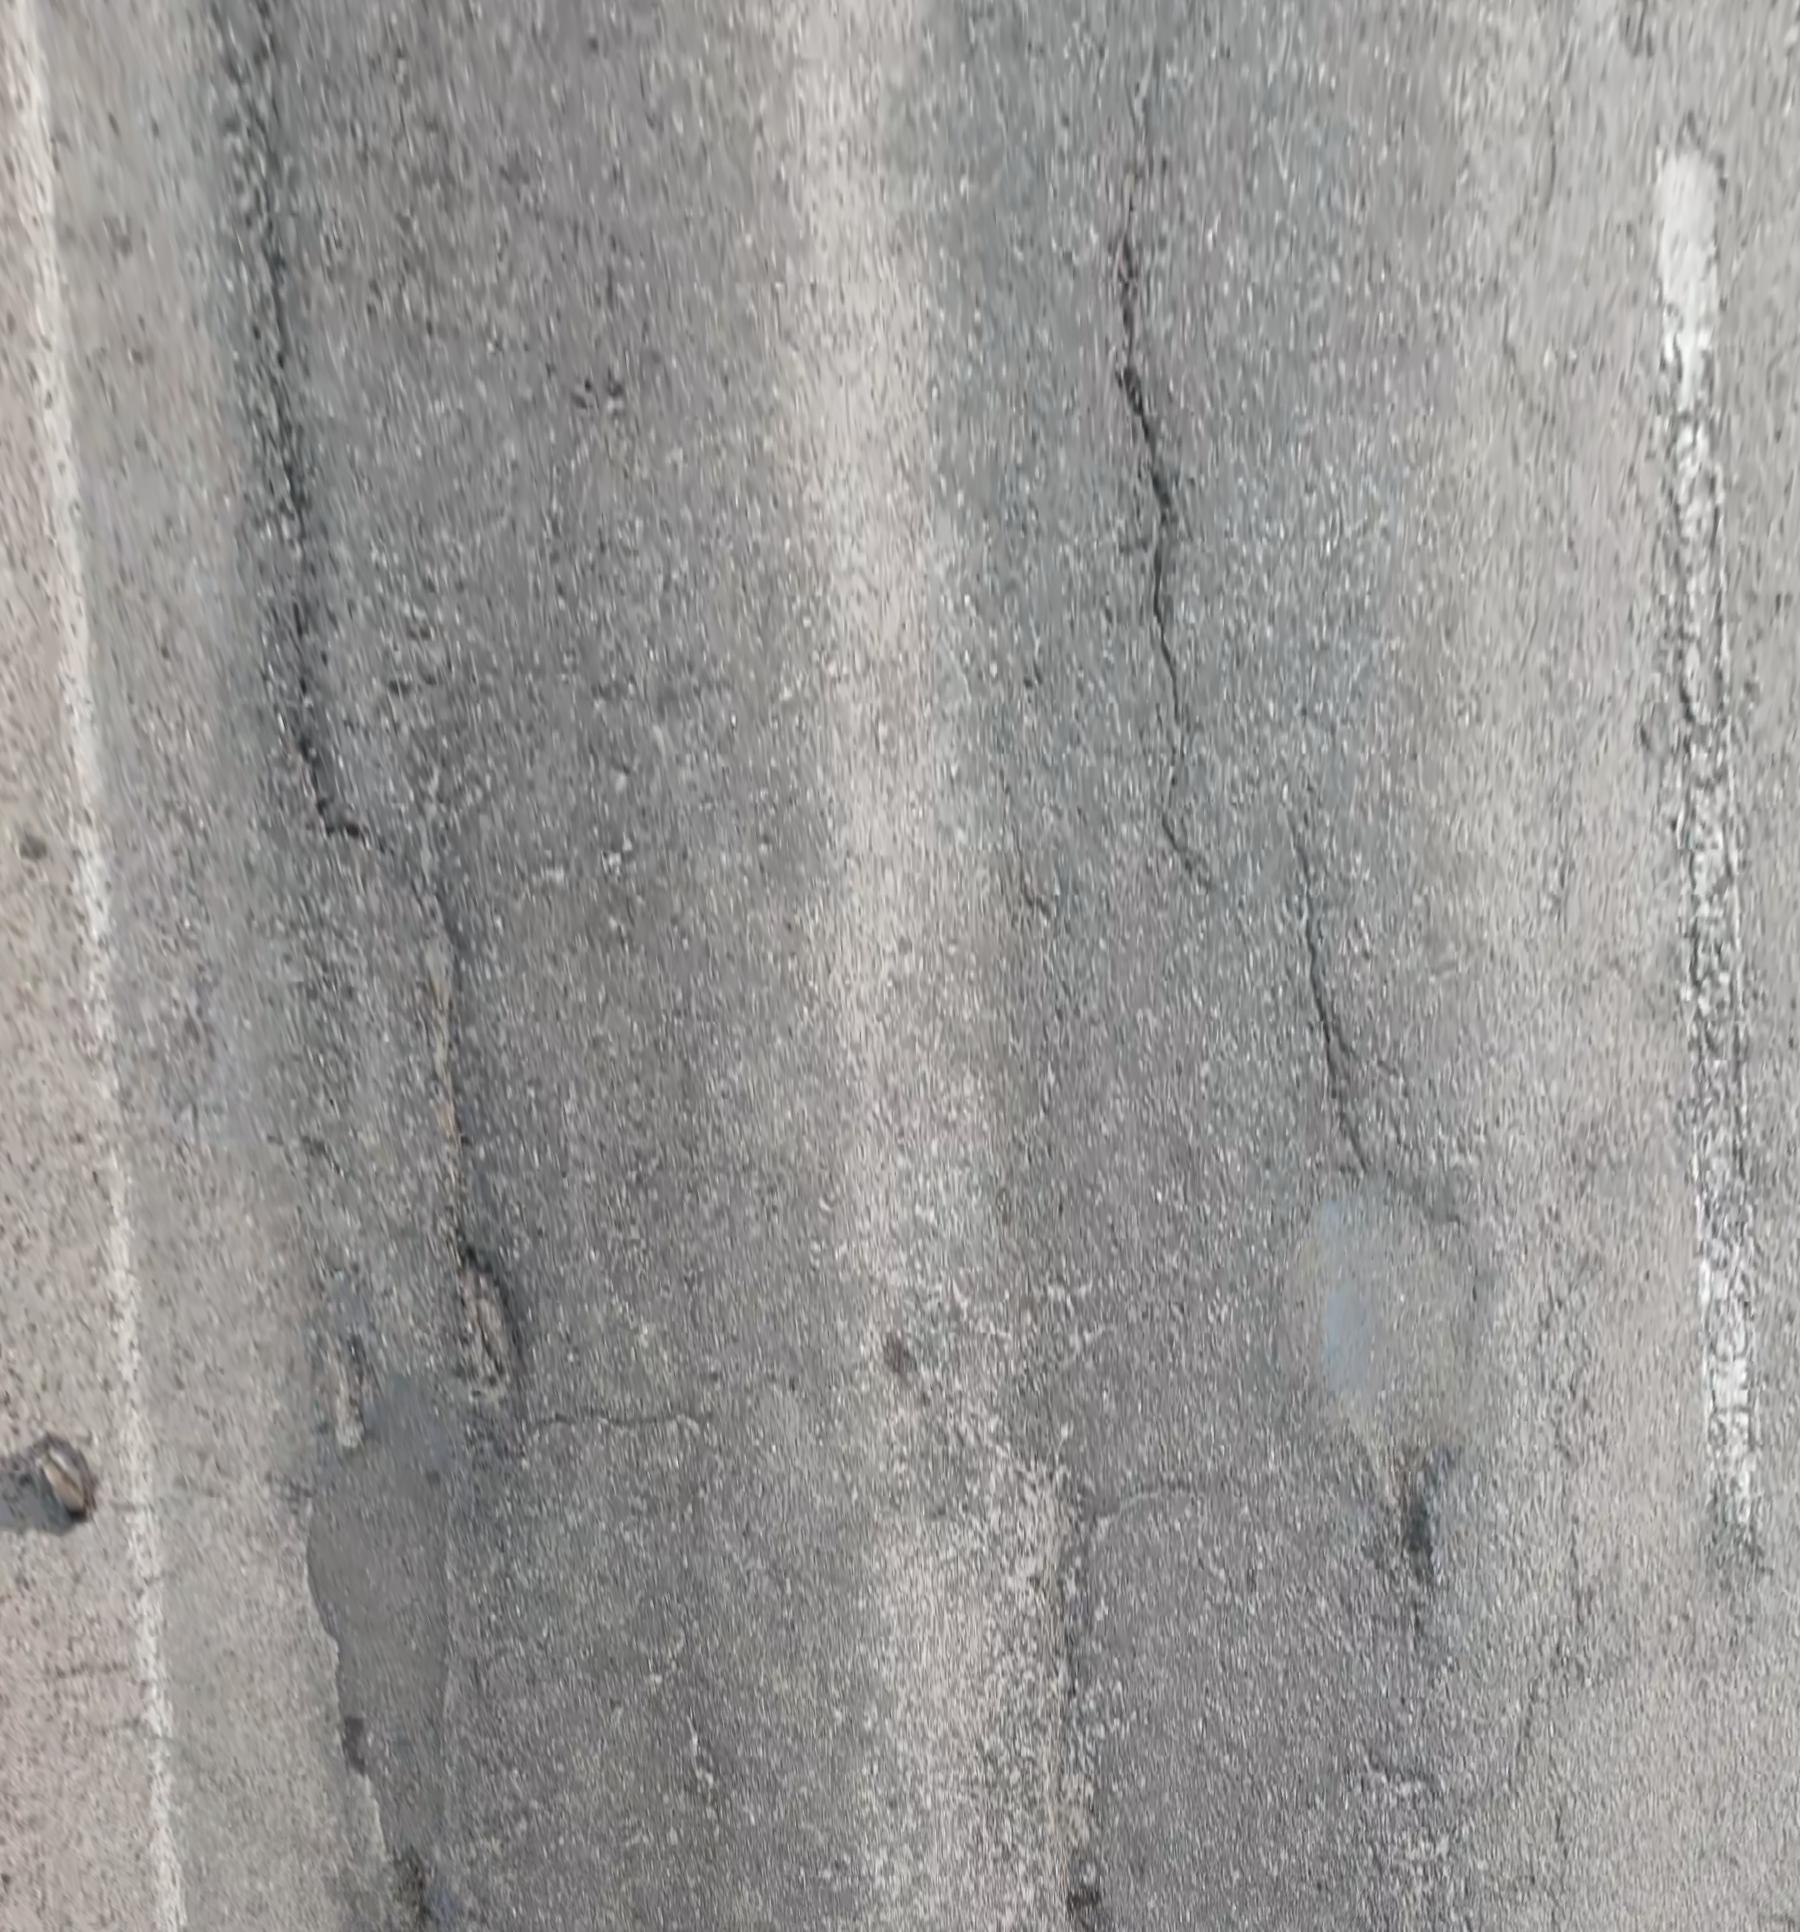pothole: (450, 1237, 511, 1397)
pothole_patch_good: (291, 1382, 450, 1915), (1301, 1186, 1416, 1474)
